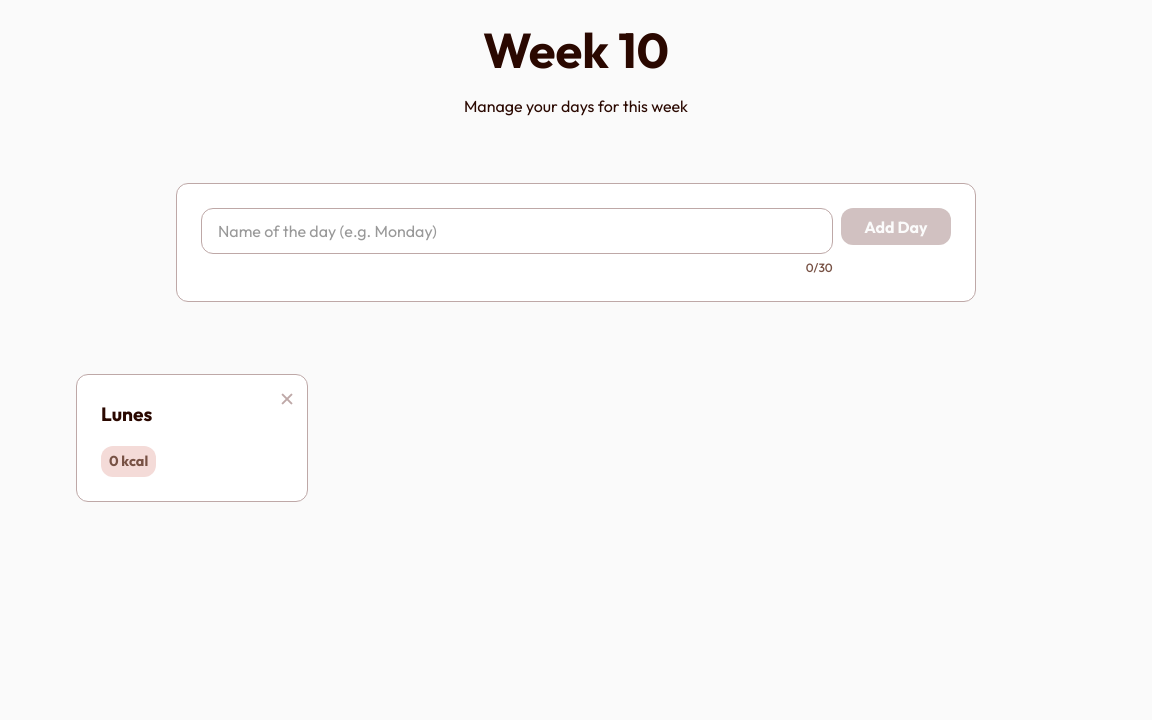
Test case: WeekItem - Days Management (Integration) › debe borrar un día correctamente tras confirmar en el modal
The image size is (1152, 720).
Later steps or results of the test are not shown.
Expected: the text "Lunes" is shown, 101,402 -> 152,426
ACTUALIZACIÓN: Buscamos por título o clase, ya no por texto "❌" genérico
Click the button titled "Delete day" at point(287, 400), box 275,384 -> 299,416
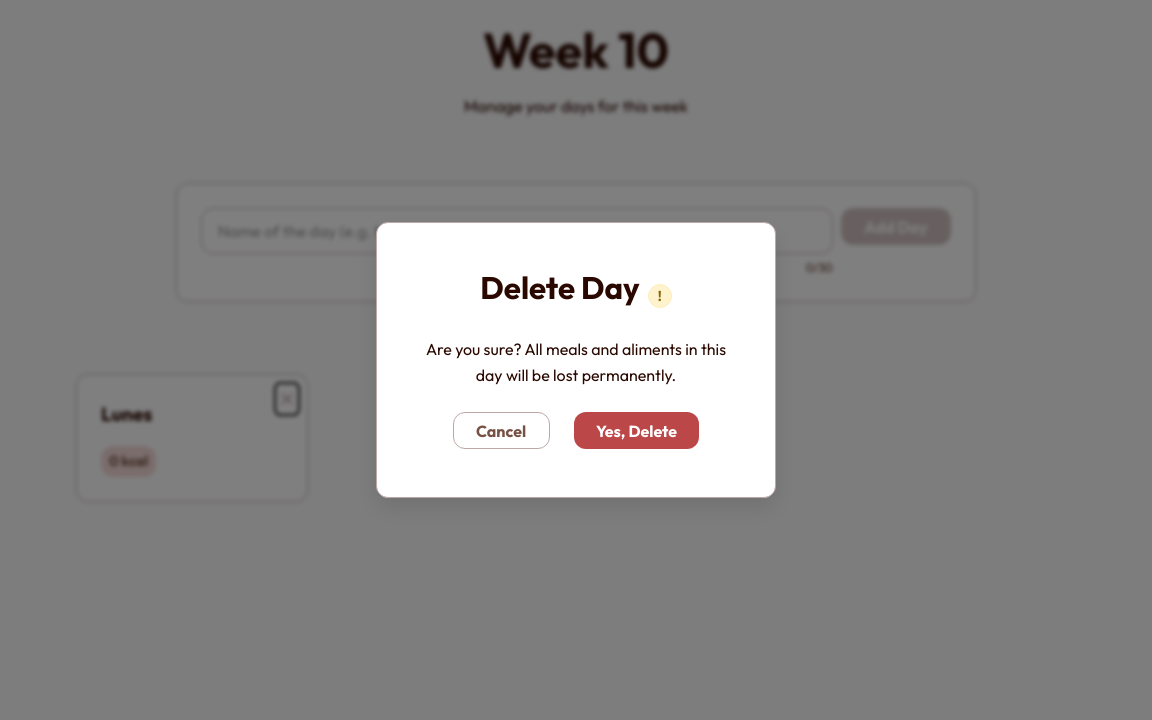
Expected: the heading "Delete Day" is shown, 480,271 -> 640,305
